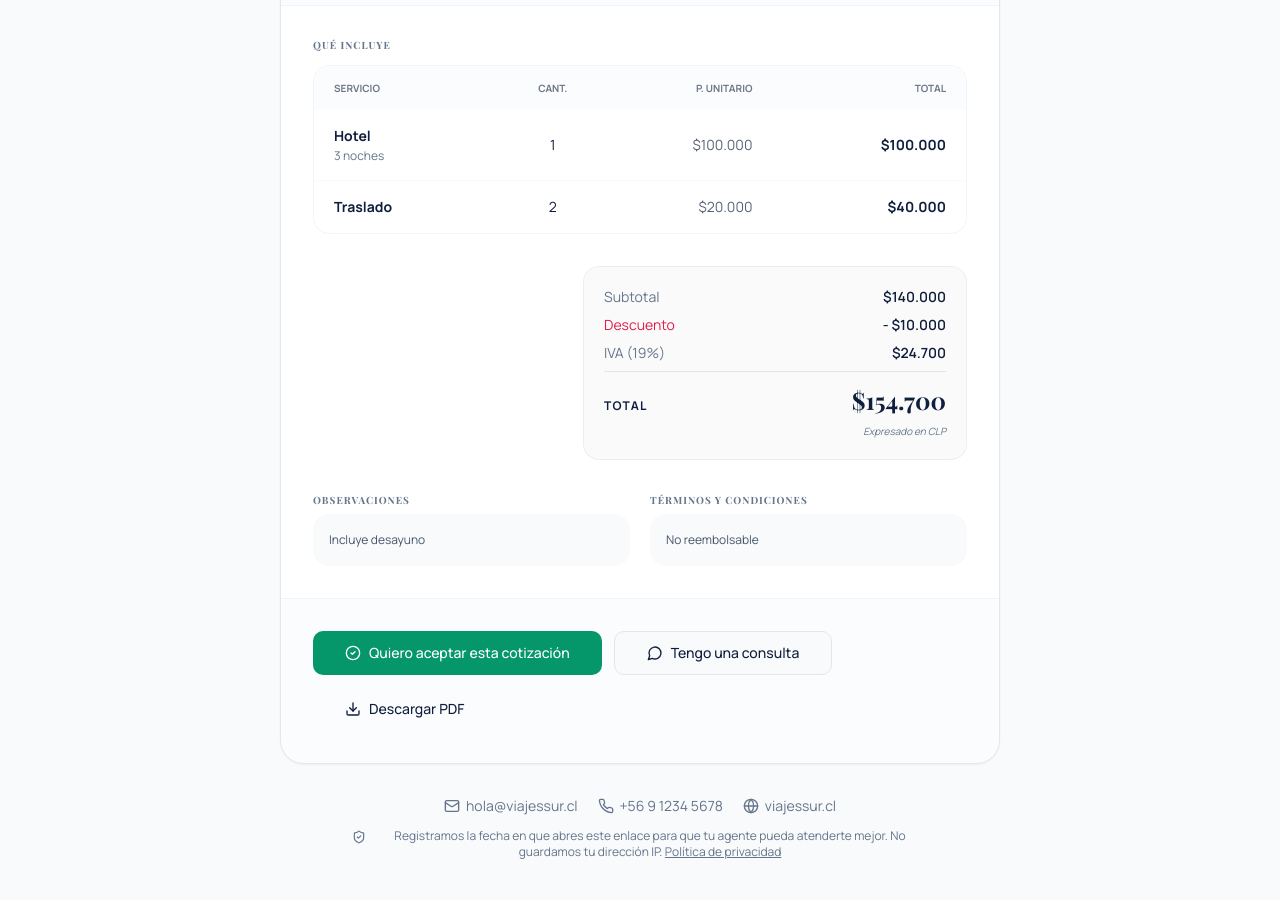
Test: PublicQuotation › aceptar: pide confirmación, explica que no hay cobro y avisa; después muestra que se recibió
(page scrolled)
Click the button "Quiero aceptar esta cotización" at [457, 653], box [313, 631, 602, 675]
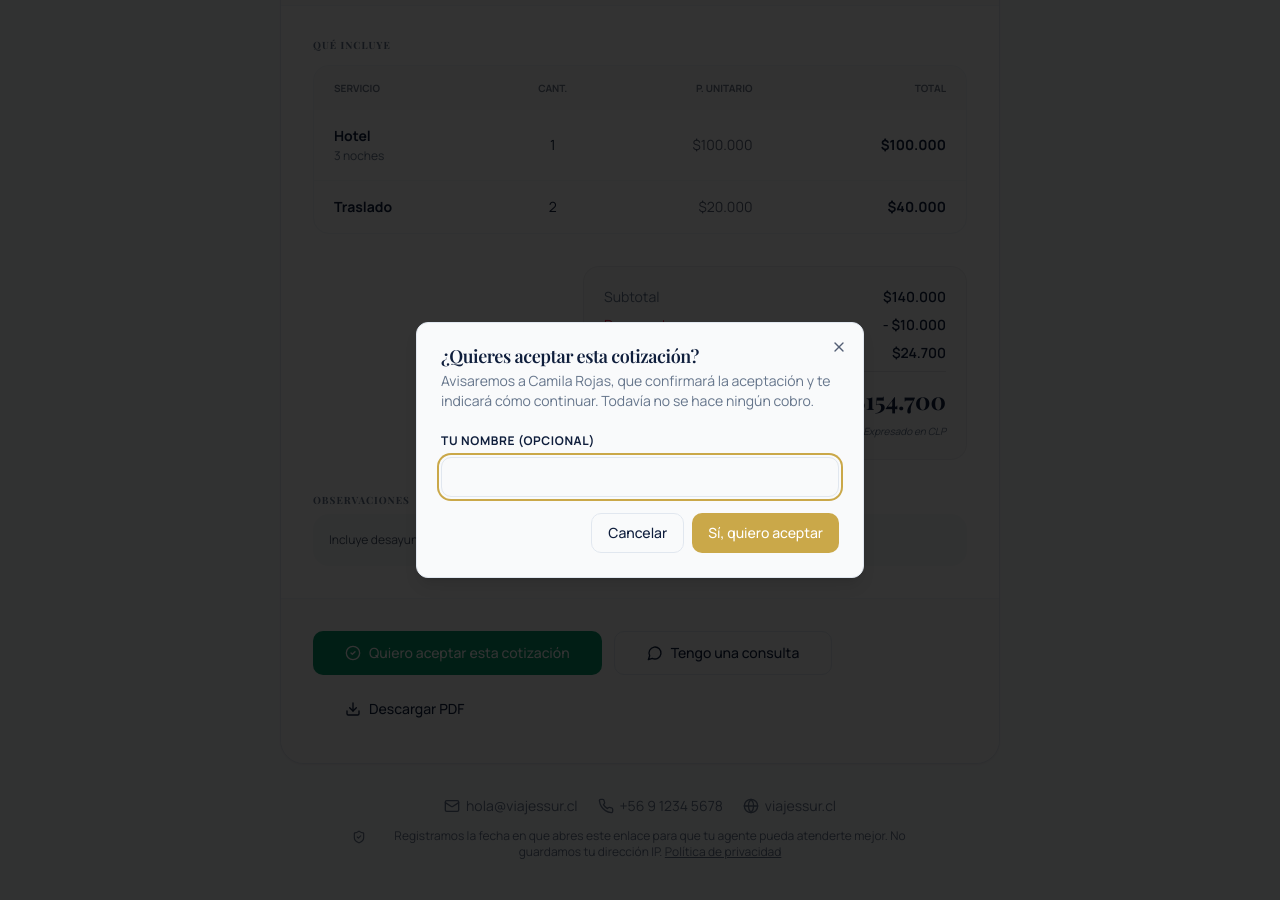
Expected: the text "Todavía no se hace ningún cobro" is shown, [441, 371, 830, 410]
Type " Ana P. " into the field labelled "Tu nombre (opcional)" at [640, 477], box [441, 457, 839, 497]
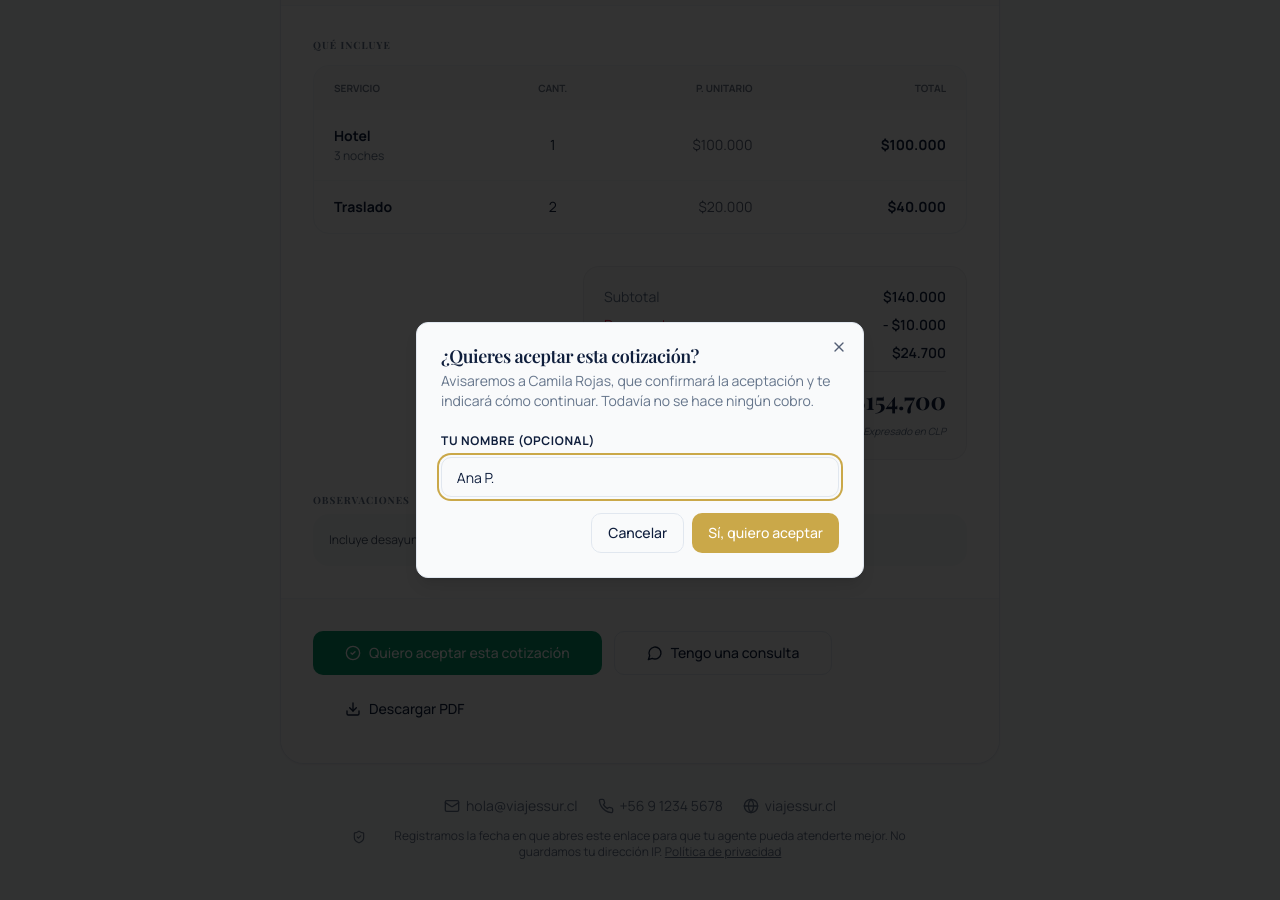
Click the button "Sí, quiero aceptar" at [766, 533], box [692, 513, 839, 553]
(page scrolled)
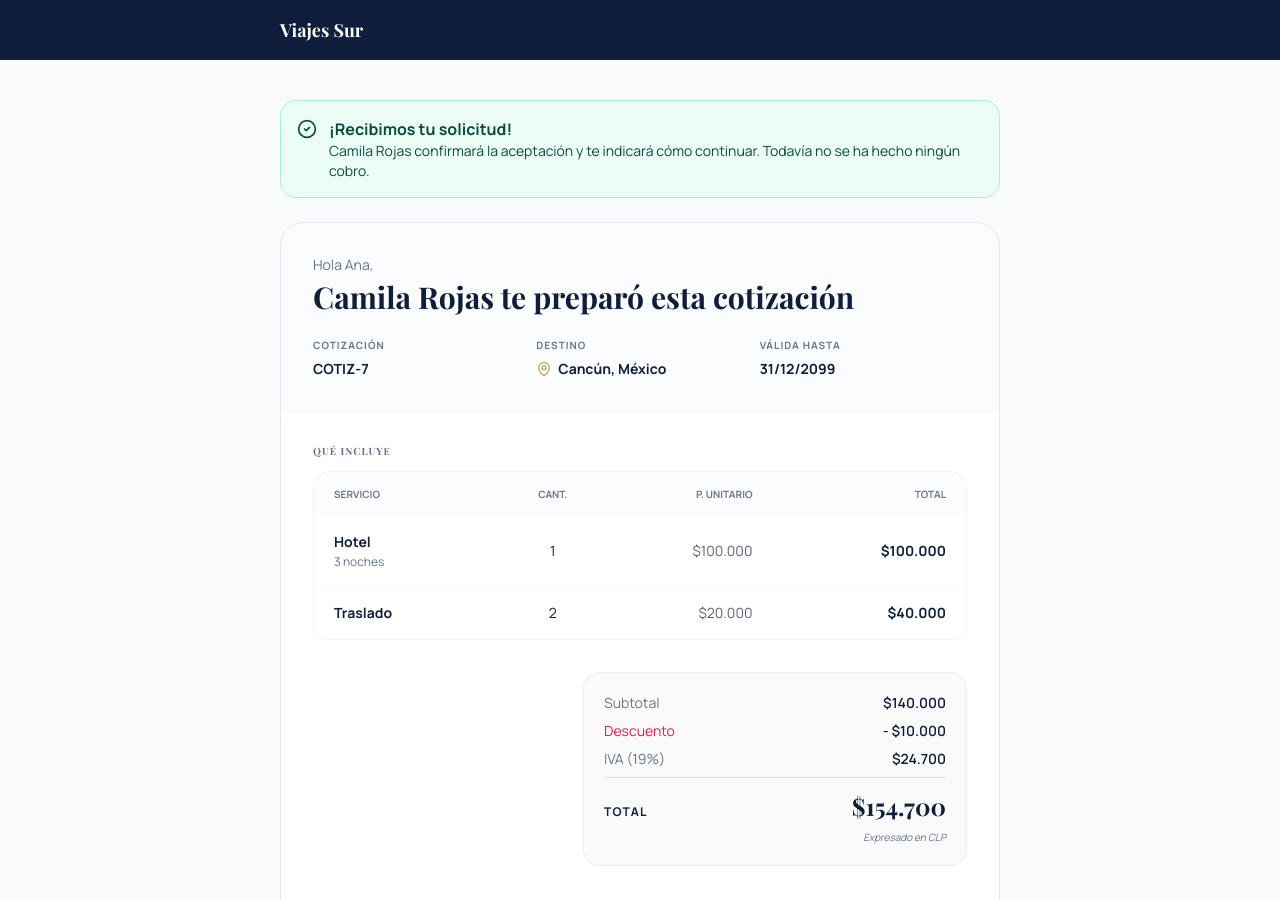
Expected: the text "¡Recibimos tu solicitud!" is shown, [329, 118, 512, 140]
